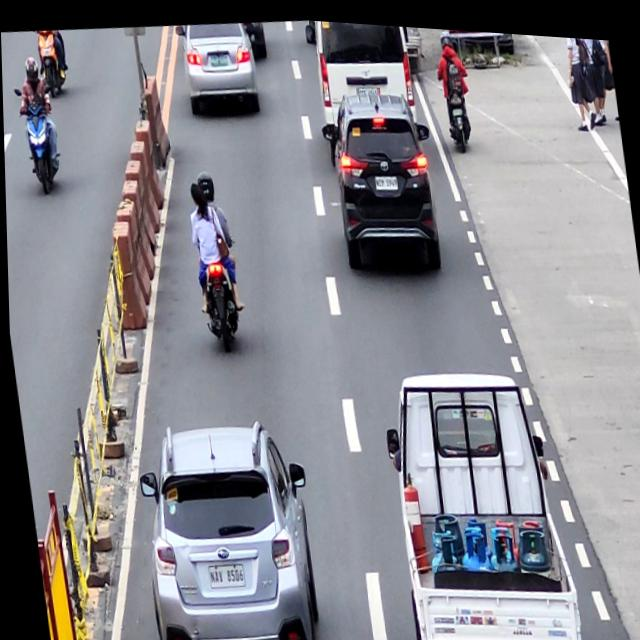Car: (125, 409, 325, 640), (318, 80, 447, 276), (303, 16, 422, 156), (173, 14, 264, 115)
License-Plate: (203, 559, 241, 588), (374, 169, 398, 187), (208, 49, 228, 66), (357, 79, 380, 92), (452, 101, 462, 110)
Motorcycle: (190, 215, 243, 350), (439, 49, 474, 148)
Truck: (373, 352, 583, 640)
